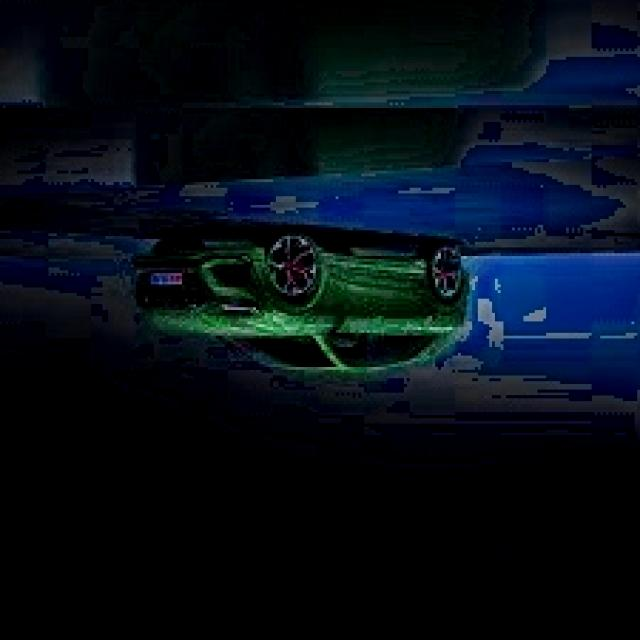green: (137, 230, 472, 376)
